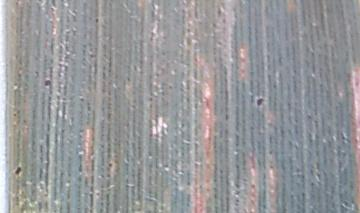tarspot: (254, 96, 266, 108), (13, 164, 23, 177), (43, 78, 53, 87), (94, 17, 101, 24), (107, 161, 113, 168)
